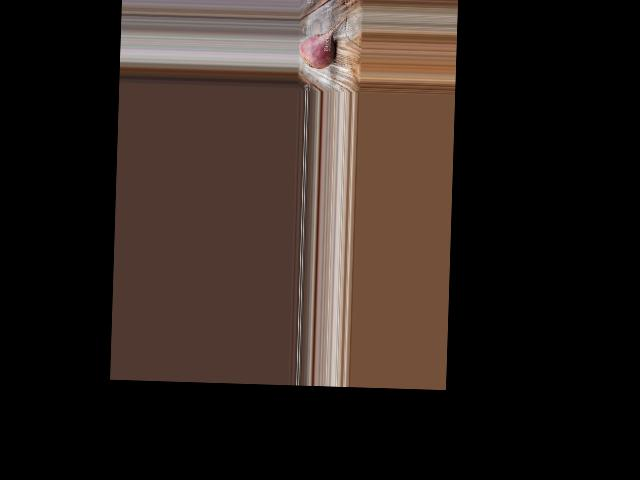beet: (299, 15, 346, 69)
